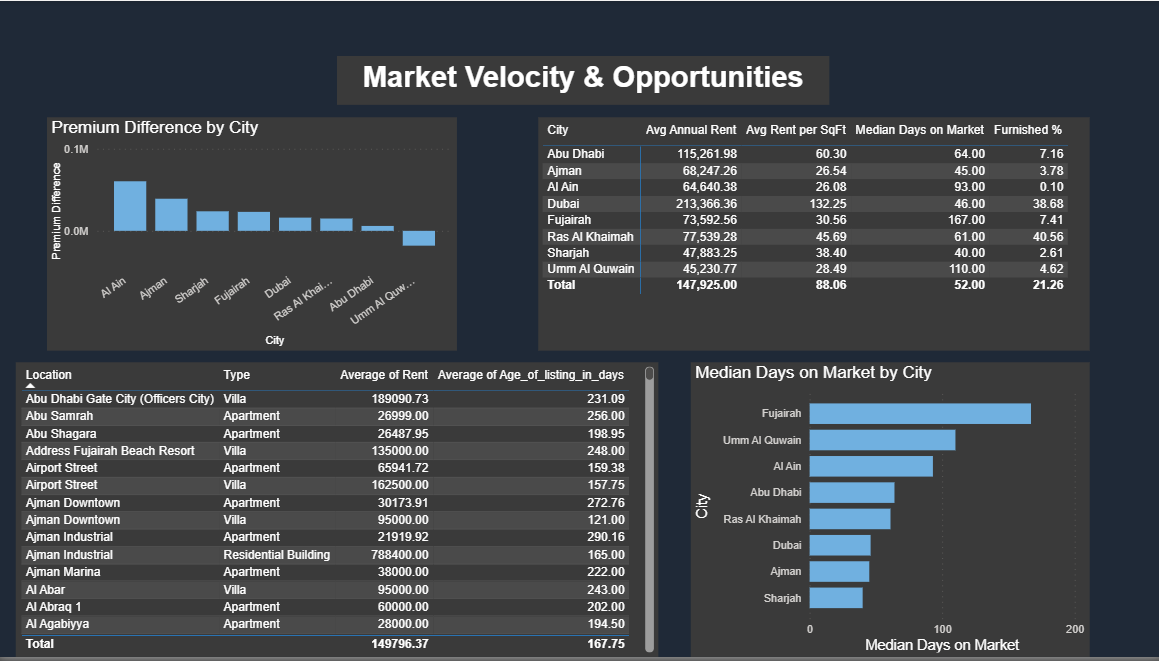

The page's visual inventory and layout, read from the dashboard file:
{"tool":"powerbi","page":{"name":"Market Velocity & Opportunities","canvas":[1280,720],"ordinal":3},"visuals":[{"type":"clusteredBarChart","fields":{"Category":["uae_properties_clean.City"],"Y":["uae_properties_clean.Median Days on Market"]},"box":[760.9,396.2,437.4,323.6],"z":0},{"type":"tableEx","fields":{"Values":["uae_properties_clean.Location","uae_properties_clean.Type","Avg(uae_properties_clean.Rent)","Avg(uae_properties_clean.Age_of_listing_in_days)"]},"box":[20.6,396.2,704.7,323.6],"z":1000},{"type":"clusteredColumnChart","fields":{"Category":["uae_properties_clean.City"],"Y":["uae_properties_clean.Premium Difference"]},"box":[54.8,127.5,449.7,256.4],"z":2000},{"type":"pivotTable","fields":{"Rows":["uae_properties_clean.City"],"Values":["uae_properties_clean.Avg Annual Rent","uae_properties_clean.Avg Rent per SqFt","uae_properties_clean.Median Days on Market","uae_properties_clean.Furnished %"]},"box":[593.7,127.5,604.6,256.4],"z":3000},{"type":"textbox","box":[372.9,60.3,540.2,53.5],"z":4000}]}

Visuals, with their boxes in screenshot pixels (x1, y1, x2, y2), scaled from the page's 1280x720 canvas onto the 1159x661 screenshot:
clusteredBarChart - uae_properties_clean.City x uae_properties_clean.Median Days on Market: [left=689, top=364, right=1085, bottom=660]
tableEx - uae_properties_clean.Location x uae_properties_clean.Type: [left=19, top=364, right=657, bottom=660]
clusteredColumnChart - uae_properties_clean.City x uae_properties_clean.Premium Difference: [left=50, top=117, right=457, bottom=352]
pivotTable - uae_properties_clean.City x uae_properties_clean.Avg Annual Rent: [left=538, top=117, right=1085, bottom=352]
textbox: [left=338, top=55, right=827, bottom=104]
